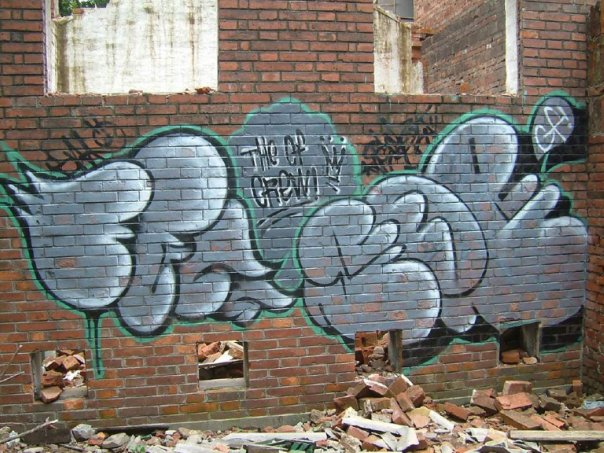graffity: (5, 88, 590, 382)
